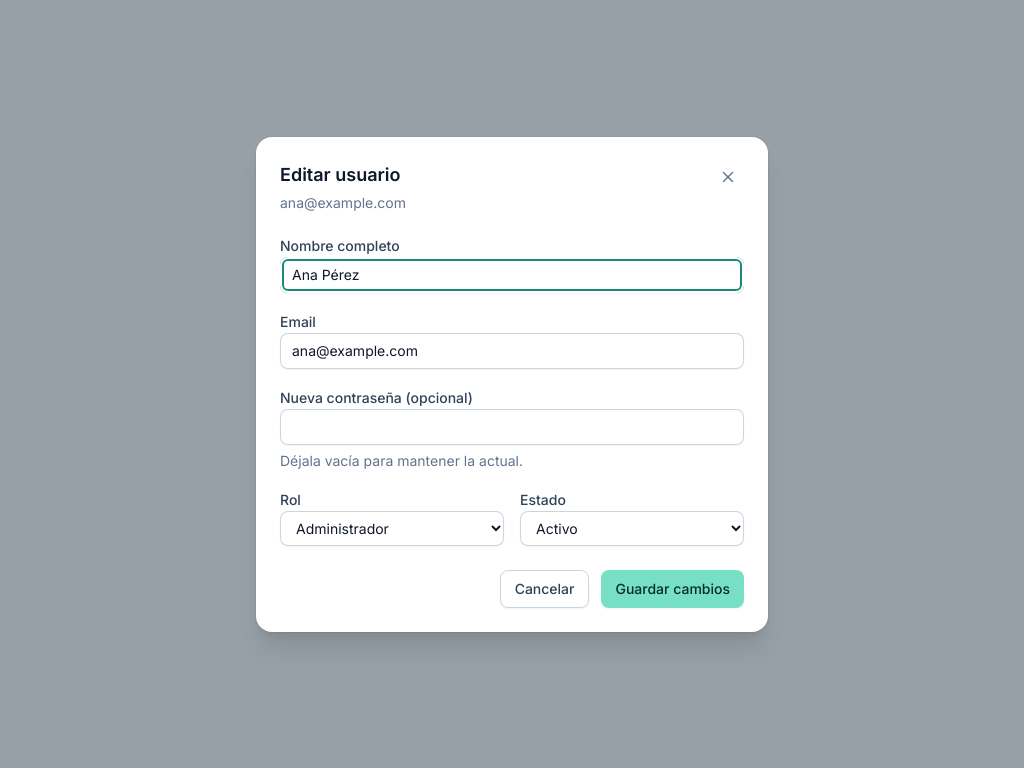
UserDialog › al editar no envía una contraseña nueva que no cumple la política
Type "corta" into the password field labelled "Nueva contraseña" at (512, 426), box [280,408,744,444]
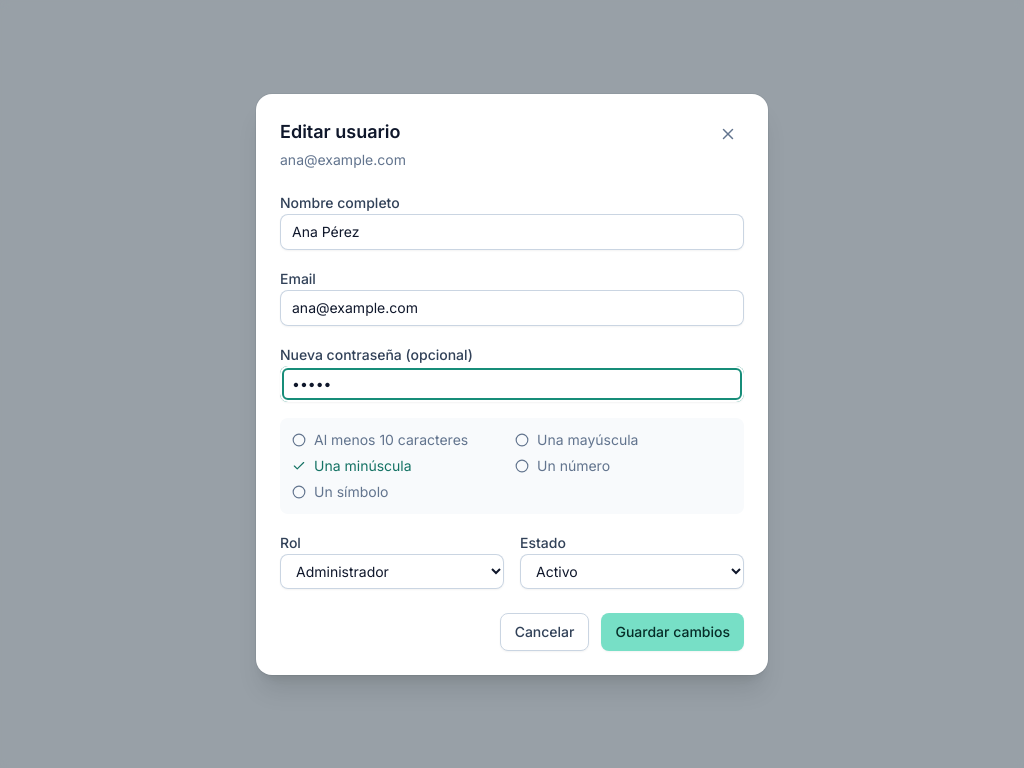
Click the button "Guardar cambios" at (673, 632), box [602,612,744,650]
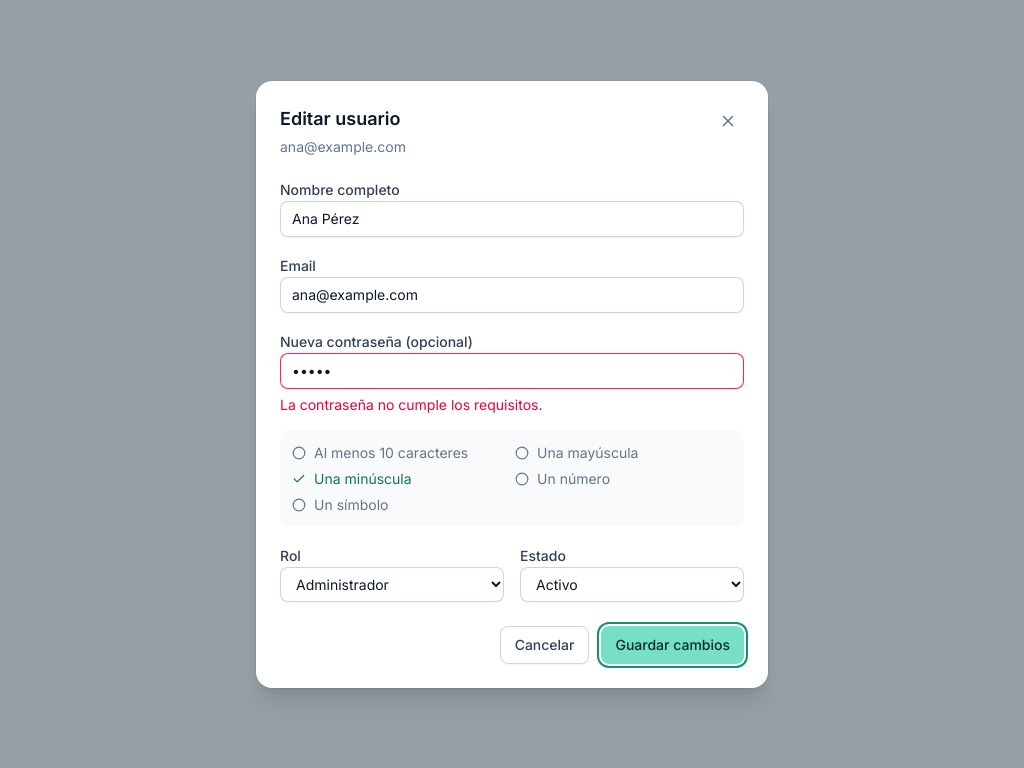
Now the message reads "La contraseña no cumple los requisitos.", box [280,396,542,412]
